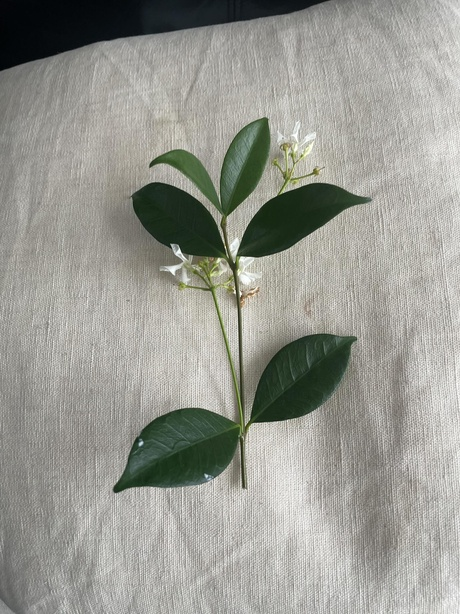leaf: (114, 407, 242, 493), (235, 183, 378, 258), (248, 332, 360, 425), (126, 181, 233, 261), (216, 114, 274, 217)
